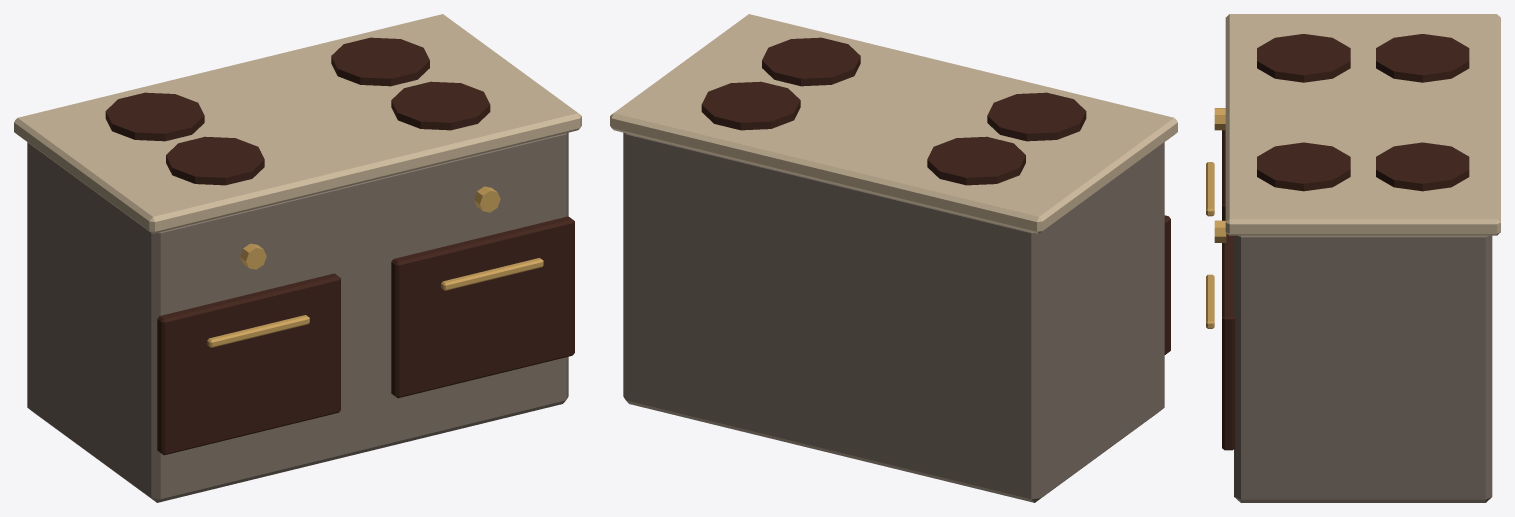
File: stove.glb
The picture shows the model from 3 angles, left to right: view 1: azimuth 30°, elevation 25°; view 2: azimuth 150°, elevation 25°; view 3: azimuth 270°, elevation 25°; orthographic projection.
Parts seen in each view (by area): view 1: Iron, Top, Oven_001, Oven, Burner_001, Burner_002, Burner, Burner_003, Bar_001, Bar; view 2: Iron, Top, Burner, Burner_003, Burner_001, Burner_002, Oven; view 3: Iron, Top, Burner_001, Burner_003, Burner, Burner_002, Oven_001, Bar, Bar_001, Oven.
Part boxes in pixels (x1,y1,x2,y2): Iron: (27, 132, 568, 502); Top: (14, 14, 581, 233); Oven_001: (391, 216, 574, 398); Oven: (157, 273, 340, 455); Burner_001: (105, 92, 204, 141); Burner_002: (391, 81, 490, 130); Burner: (166, 136, 264, 185); Burner_003: (331, 37, 429, 86); Bar_001: (441, 258, 543, 290); Bar: (207, 315, 309, 347); Iron: (623, 132, 1164, 502); Top: (610, 14, 1177, 233); Burner: (987, 92, 1086, 141); Burner_003: (701, 81, 800, 130); Burner_001: (927, 136, 1025, 185); Burner_002: (762, 37, 860, 86); Oven: (1164, 215, 1170, 354); Iron: (1234, 235, 1492, 502); Top: (1225, 14, 1500, 235); Burner_001: (1376, 34, 1469, 82); Burner_003: (1376, 142, 1469, 191); Burner: (1257, 34, 1350, 82); Burner_002: (1257, 142, 1350, 191); Oven_001: (1222, 233, 1235, 450); Bar: (1206, 162, 1214, 216); Bar_001: (1206, 274, 1214, 328); Oven: (1222, 130, 1225, 220).
Size of the model in its own units: 1.45 by 0.962 by 0.8675.
